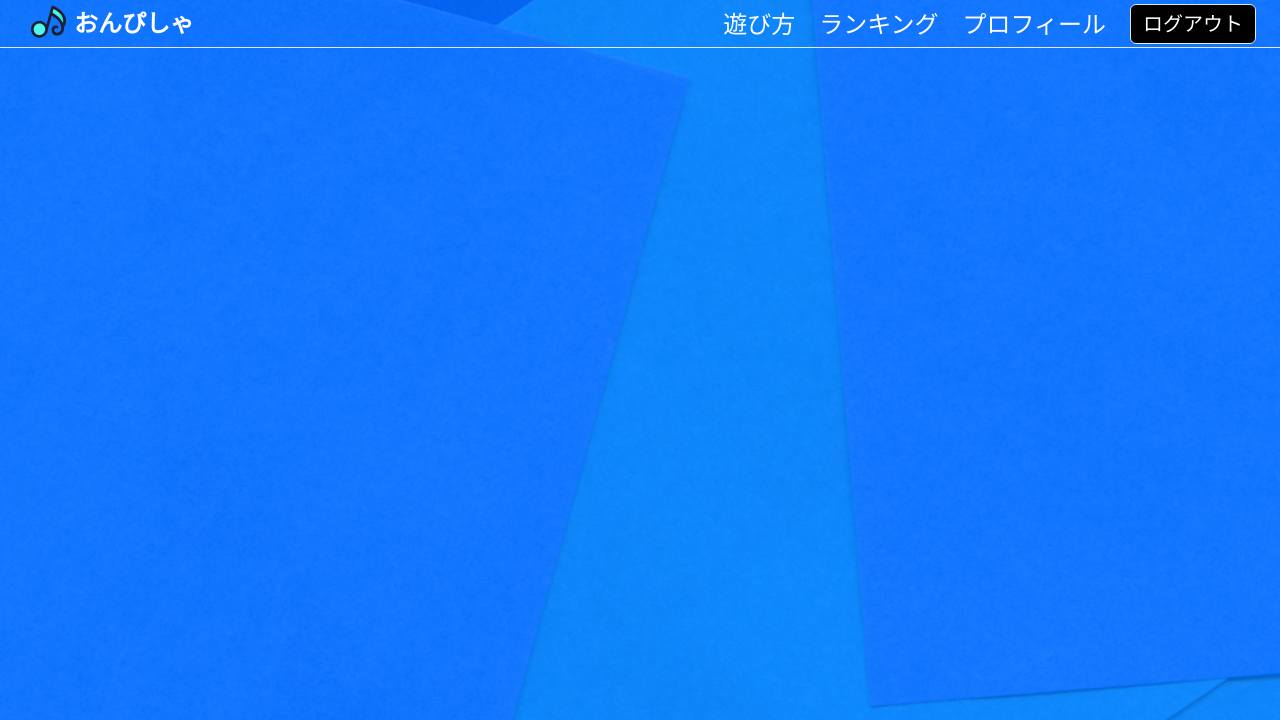
Test case: ヘッダー › '遊び方'ボタンをクリックするとモーダルが開く
The image size is (1280, 720).
Click the button "遊び方".
click(759, 24)  # box 723,8 -> 795,40
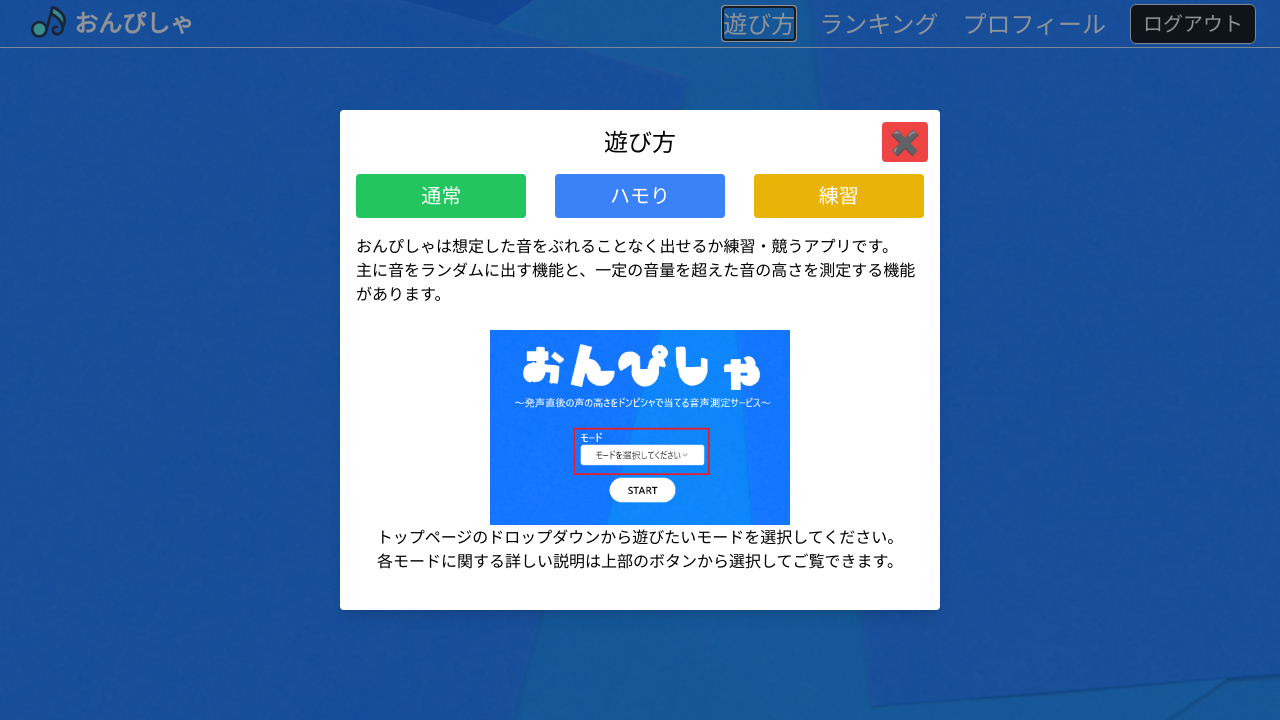
Expected: the button "通常" is shown, 356,174 -> 526,218
Expected: the button "ハモり" is shown, 555,174 -> 725,218
Expected: the button "練習" is shown, 754,174 -> 924,218
